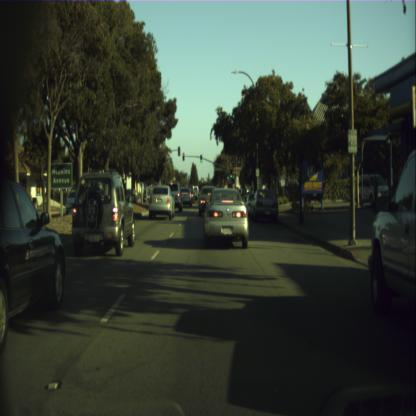Green: (200, 154, 202, 162), (230, 169, 232, 177), (226, 171, 228, 179)
Red: (182, 152, 184, 160)
